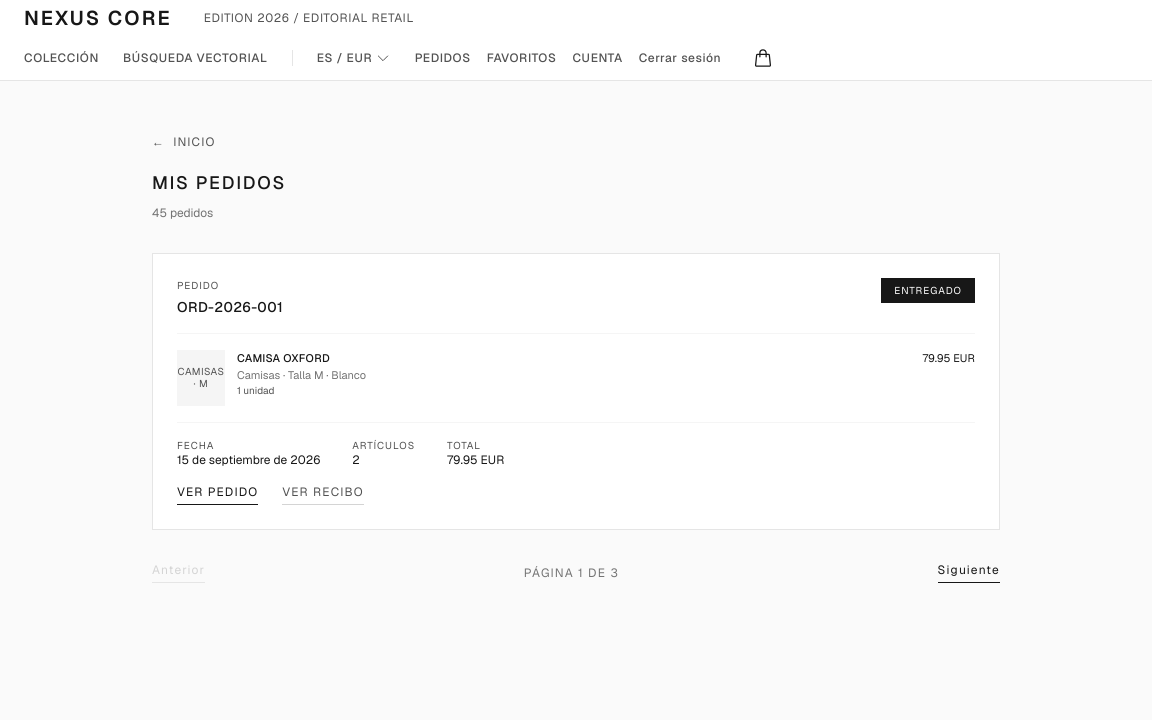
Test: OrderHistoryPage › debe paginar cuando hay más de una página
Expected: the text "Página 1 de 3" is shown, left=524, top=565, right=619, bottom=581
Click the button "Siguiente" at {"x": 969, "y": 573}, box left=938, top=562, right=1000, bottom=583
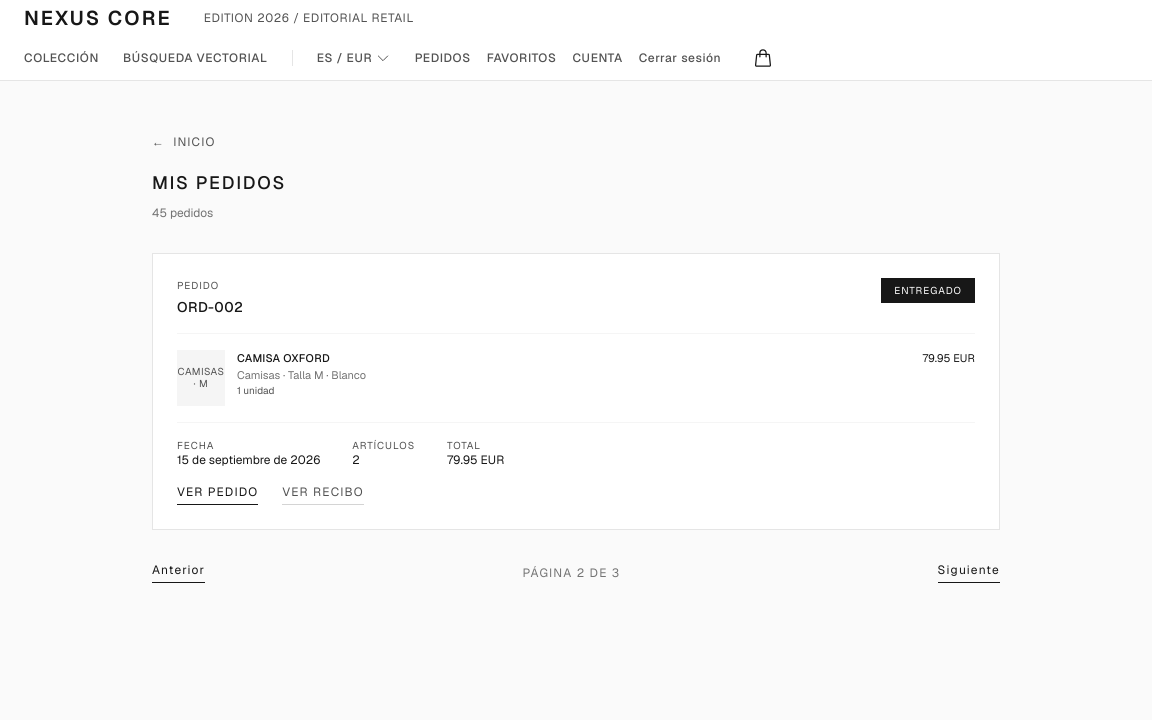
Expected: the text "Página 2 de 3" is shown, left=522, top=565, right=620, bottom=581
